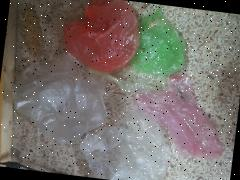plastic: (132, 74, 234, 162), (4, 56, 111, 138), (59, 0, 143, 75)
